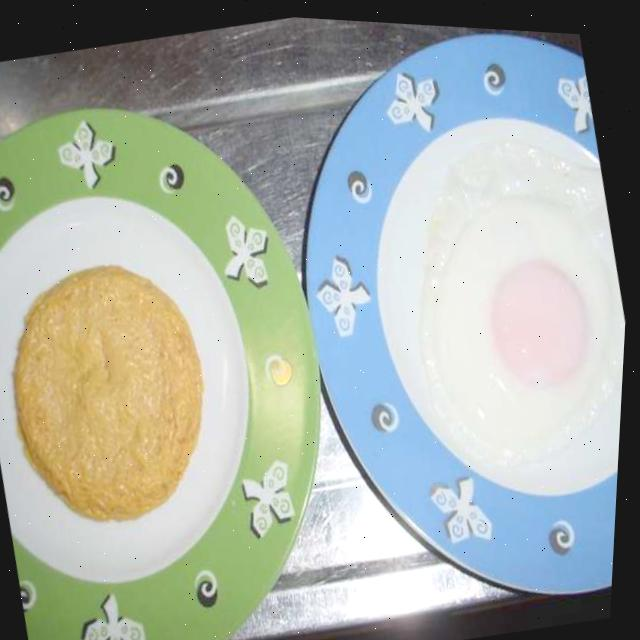鸡蛋料理: (382, 130, 635, 473)
